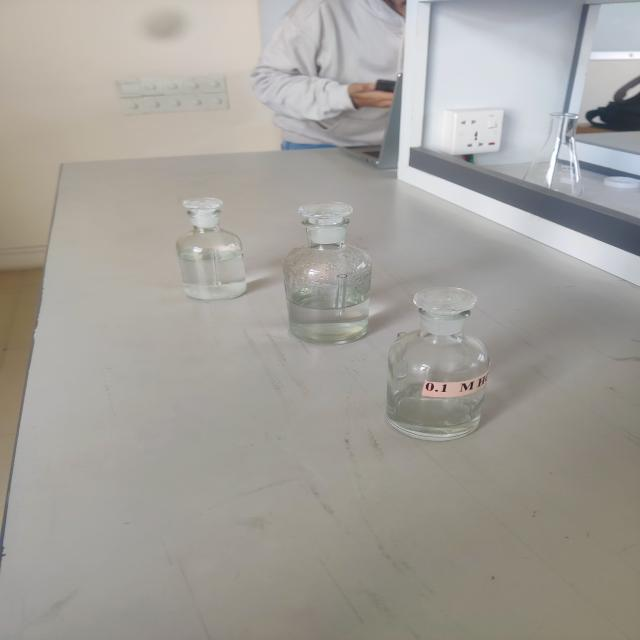Reagent_Bottle: (357, 277, 527, 454), (263, 197, 393, 351), (152, 183, 268, 316)
